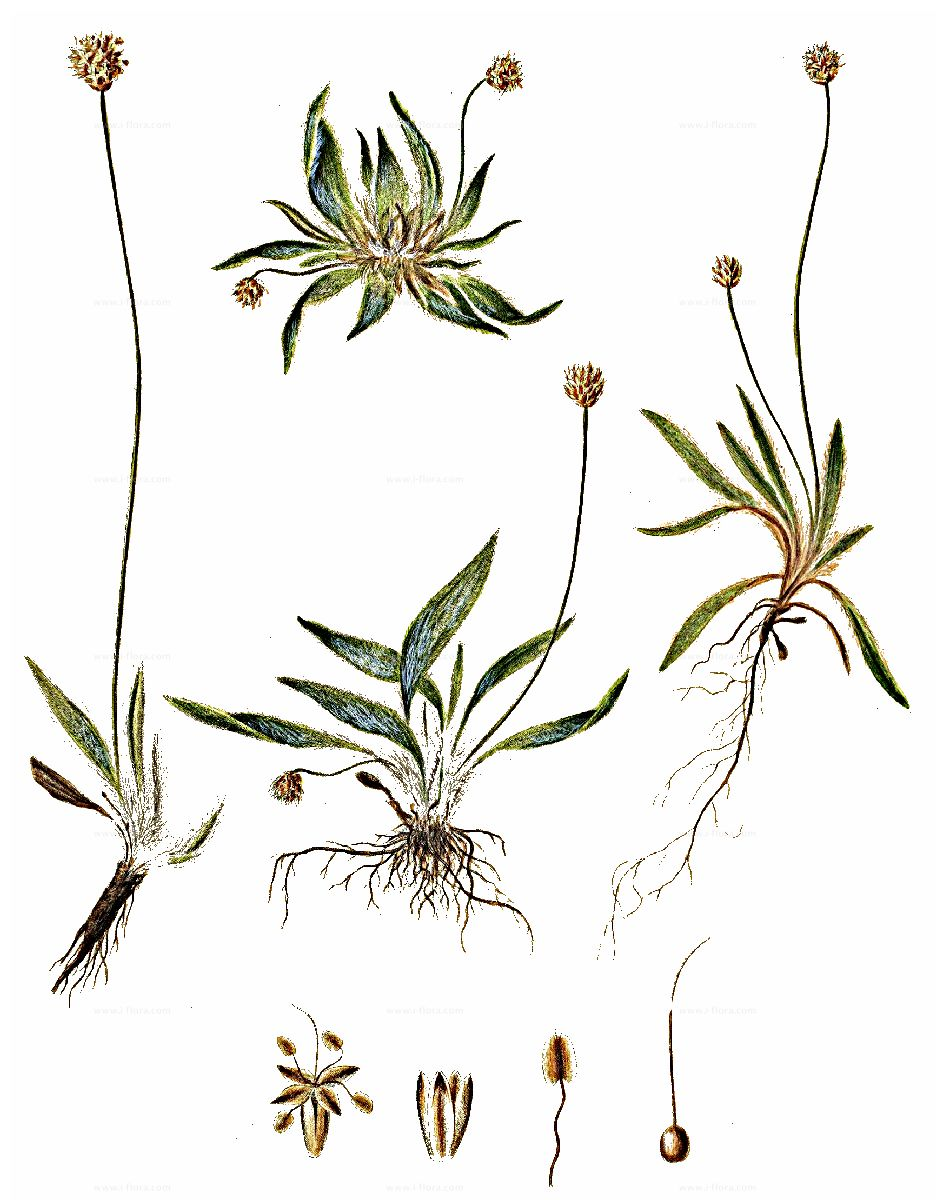buckhorn plantain: (295, 368, 651, 882), (696, 37, 909, 696), (48, 41, 190, 793), (234, 62, 580, 334)
